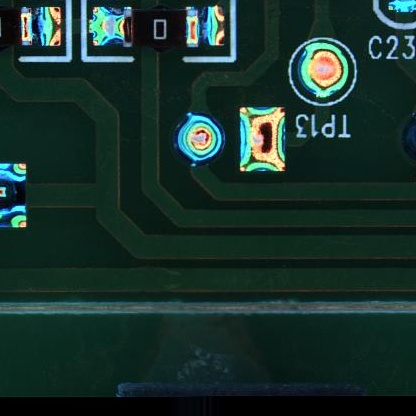spot: (294, 40, 350, 101), (239, 106, 288, 174), (173, 110, 226, 167)
